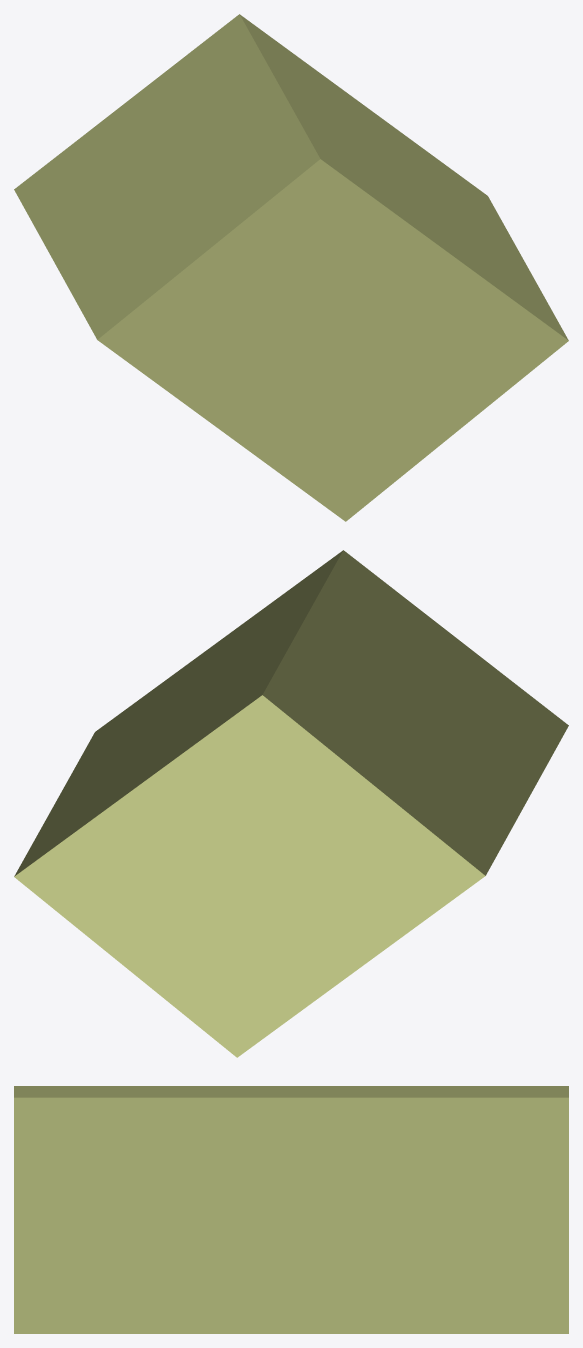
The picture shows the model from 3 angles, top to bottom: view 1: azimuth 30°, elevation 25°; view 2: azimuth 150°, elevation 25°; view 3: azimuth 270°, elevation 25°; orthographic projection. The views are drawn at different scales.
Parts seen in each view (by area): view 1: 0_1_1_3_2_2_3_0_2_1_2; view 2: 0_1_1_3_2_2_3_0_2_1_2; view 3: 0_1_1_3_2_2_3_0_2_1_2.
Boxes of the visible parts, <box> form: 0_1_1_3_2_2_3_0_2_1_2: <box>14,14,568,521</box>; 0_1_1_3_2_2_3_0_2_1_2: <box>14,550,568,1057</box>; 0_1_1_3_2_2_3_0_2_1_2: <box>14,1086,568,1333</box>.
Bounding box in the file's own units: 4.27 × 3.88 × 6.
